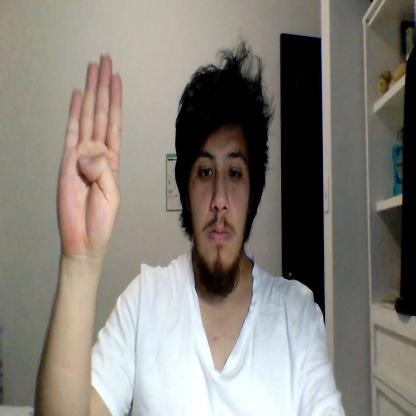B: (57, 52, 123, 253)
